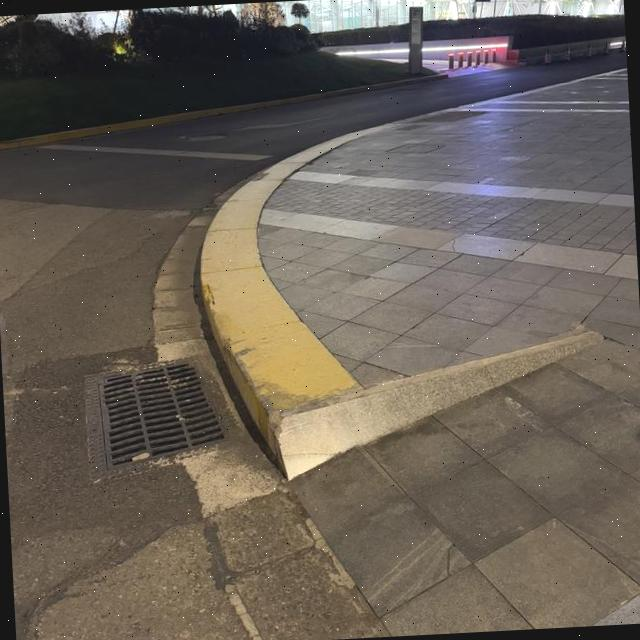curb: (201, 140, 355, 434), (0, 74, 446, 150)
